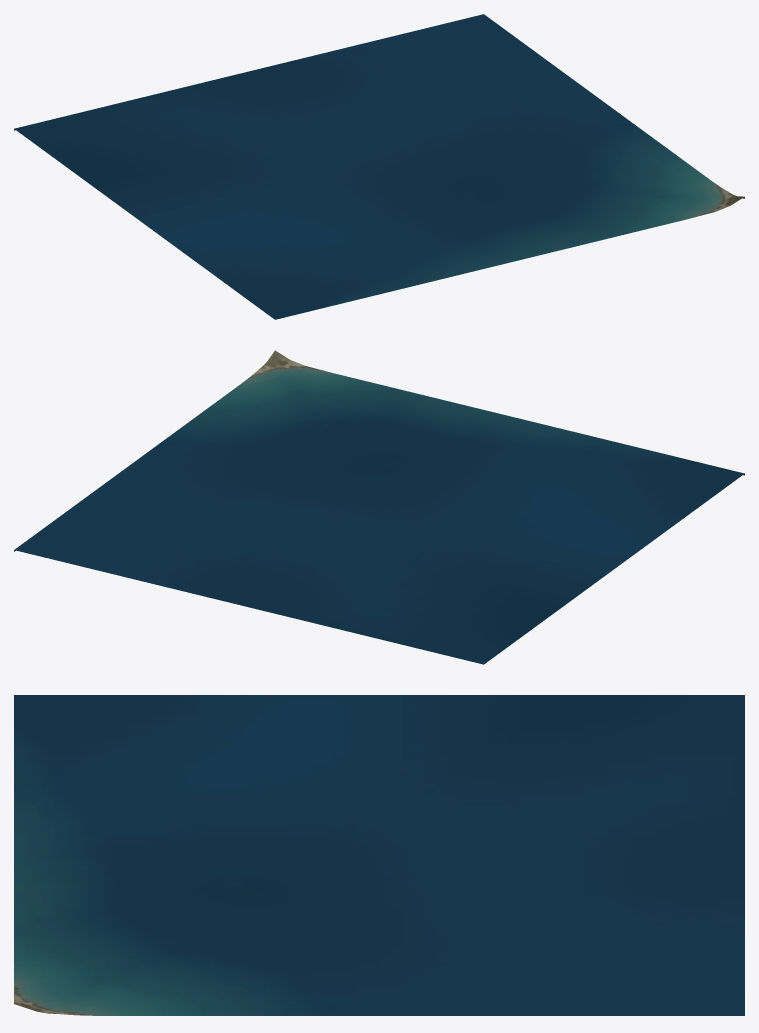
3 renders of one model, top to bottom at view 1: azimuth 30°, elevation 25°; view 2: azimuth 150°, elevation 25°; view 3: azimuth 270°, elevation 25°, orthographic. The views are drawn at different scales.
Bounding box in the file's own units: 250 × 5.38 × 241.
Materials: 1 (1 with a texture image).
